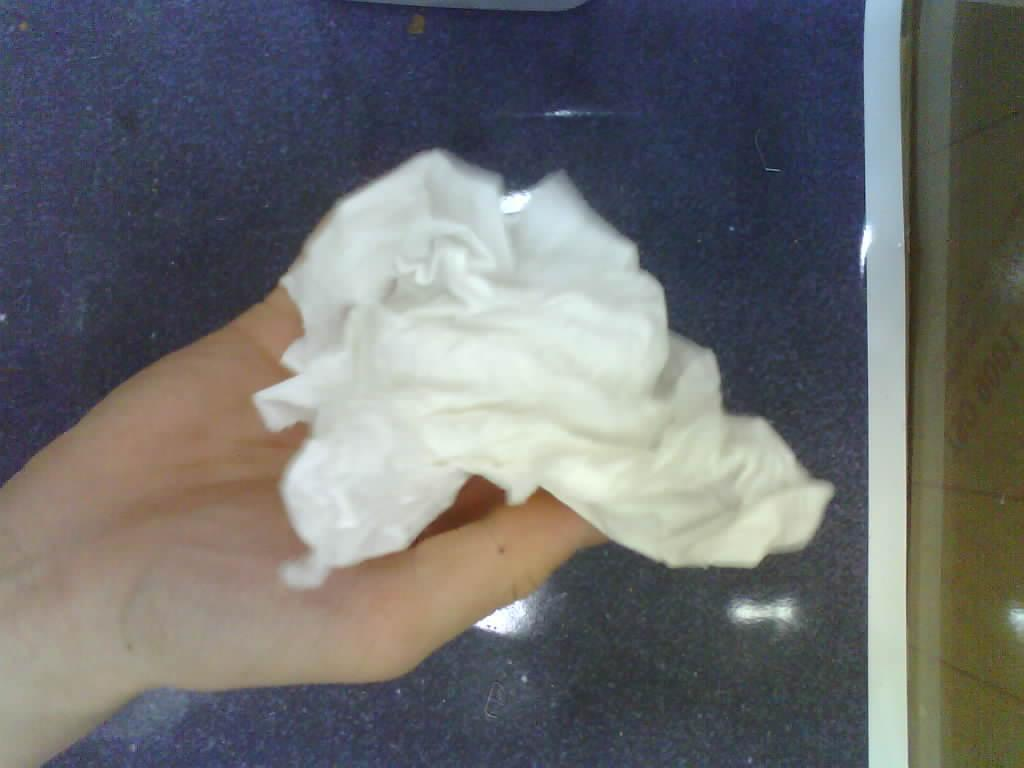paper: (254, 150, 832, 586)
